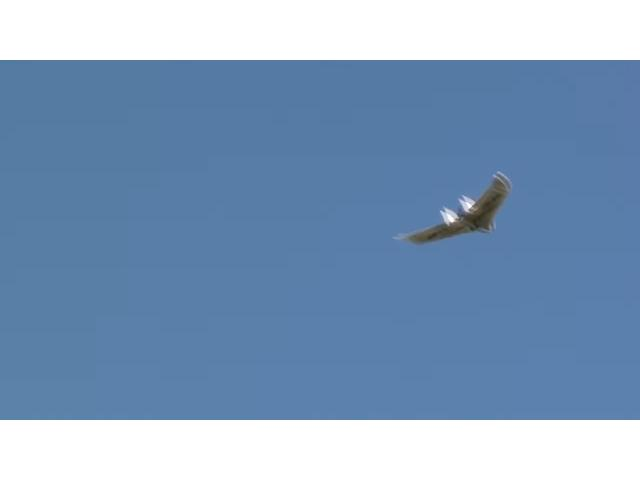Anti-Drone: (412, 172, 514, 244)
